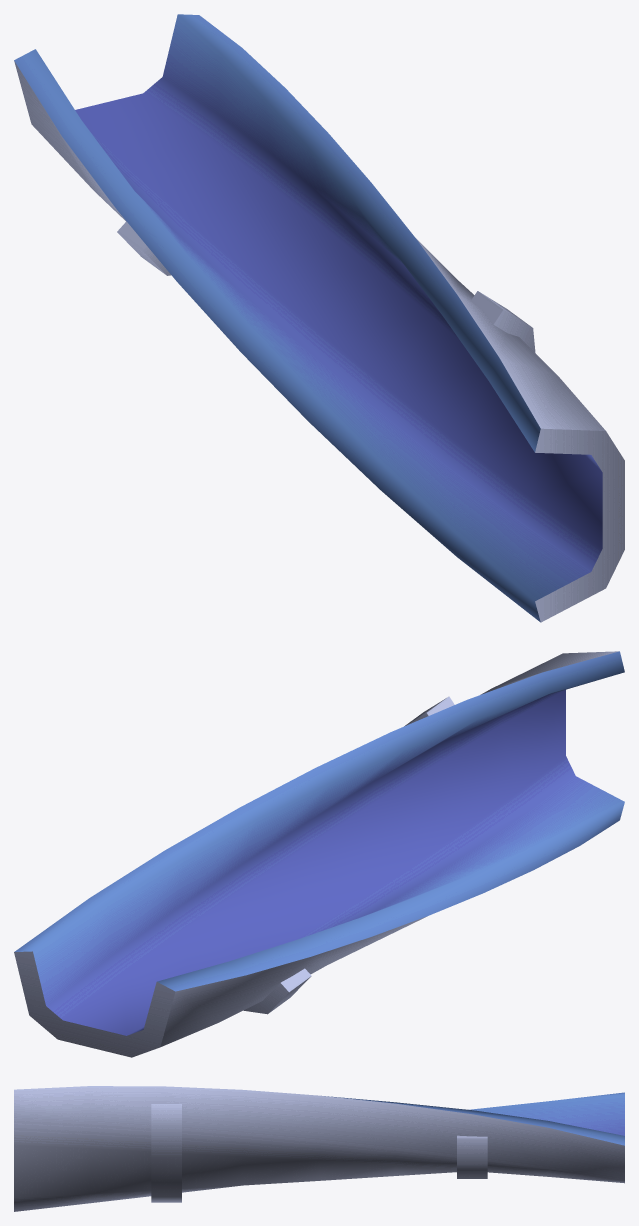
Rendered from coaster_flume_straight_skew_right_side.glb.
3 renders of one model, top to bottom at view 1: azimuth 30°, elevation 25°; view 2: azimuth 150°, elevation 25°; view 3: azimuth 270°, elevation 25°, orthographic. The views are drawn at different scales.
Parts seen in each view (by area): view 1: coaster-flume-straight-skew-right-side; view 2: coaster-flume-straight-skew-right-side; view 3: coaster-flume-straight-skew-right-side.
Part boxes in pixels (x1,y1,x2,y2): coaster-flume-straight-skew-right-side: (14, 14, 624, 622); coaster-flume-straight-skew-right-side: (14, 651, 624, 1057); coaster-flume-straight-skew-right-side: (14, 1086, 624, 1211).
Size of the model in its own units: 0.9702 by 0.9702 by 4.
Materials: 1 (1 with a texture image).
